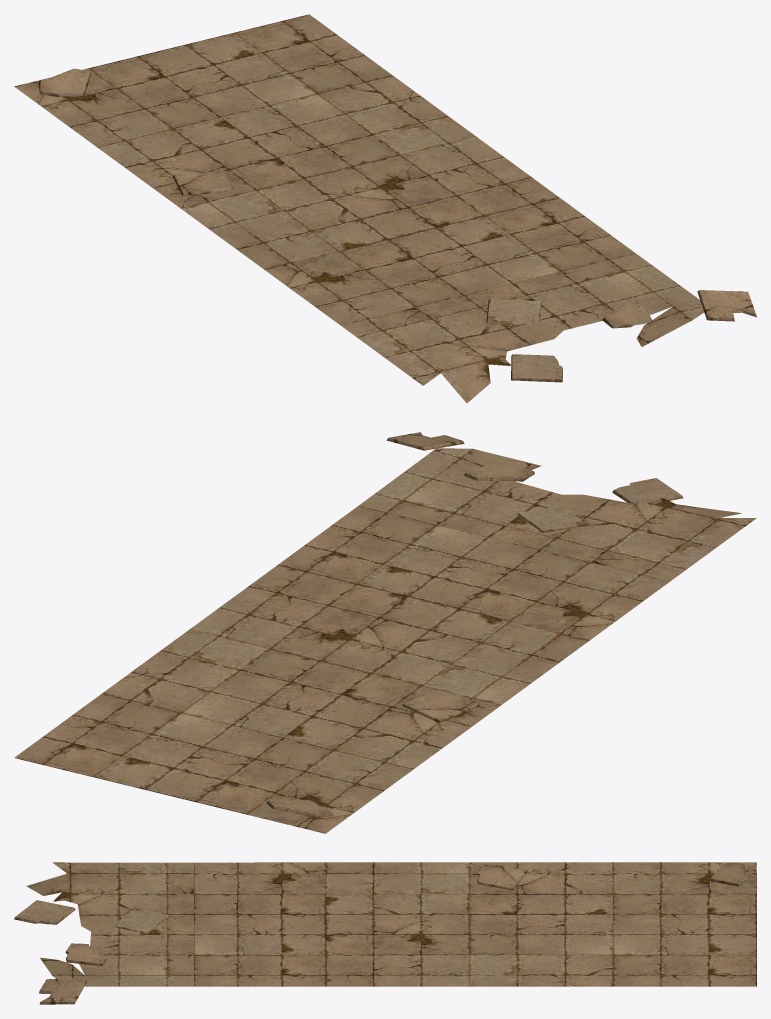
Rendered from Ground15_Terrain_LostTemple_001.FBX.
3 renders of one model, top to bottom at view 1: azimuth 30°, elevation 25°; view 2: azimuth 150°, elevation 25°; view 3: azimuth 270°, elevation 25°, orthographic. The views are drawn at different scales.
Visible parts, largest first — view 1: Ground15_Terrain_LostTemple_001; view 2: Ground15_Terrain_LostTemple_001; view 3: Ground15_Terrain_LostTemple_001.
Boxes of the visible parts, x1,y1,x2,y2 form: Ground15_Terrain_LostTemple_001: (14,14,756,403); Ground15_Terrain_LostTemple_001: (14,432,756,833); Ground15_Terrain_LostTemple_001: (14,862,756,1004).
Bounding box in the file's own units: 968 × 62.5 × 2138.
Materials: 1 (1 with a texture image).
